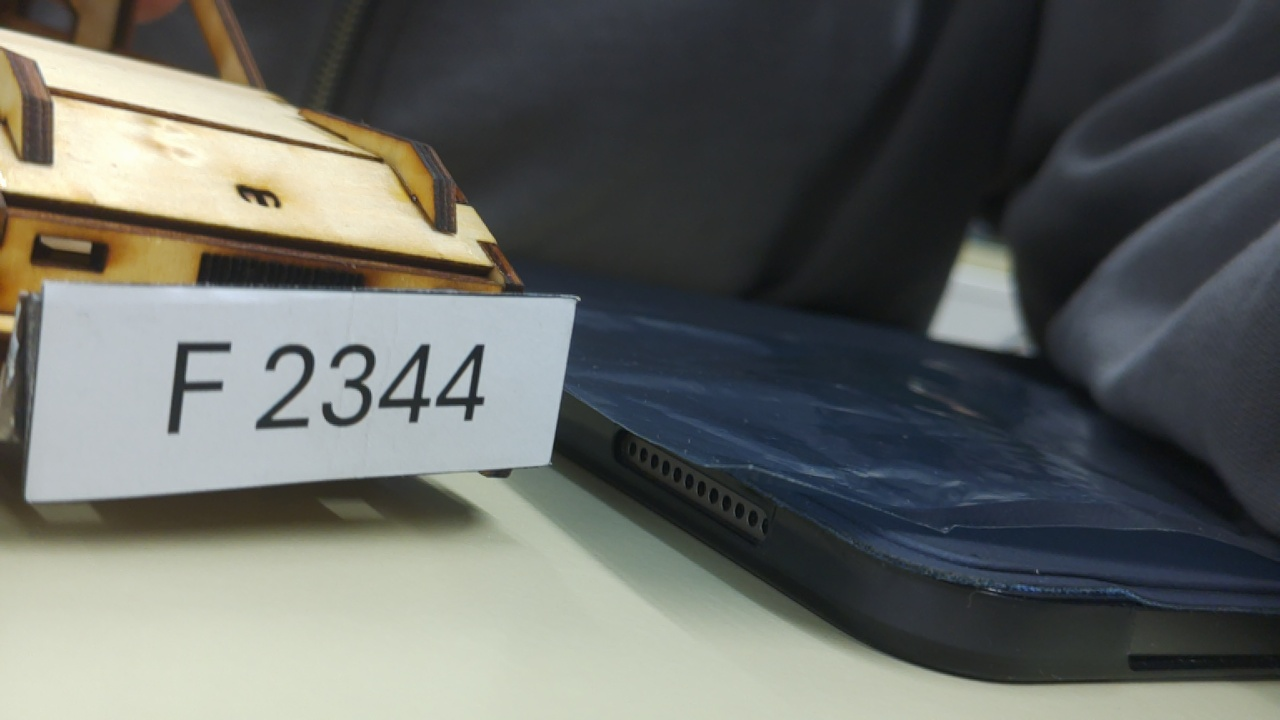license_plate: (15, 284, 587, 508)
